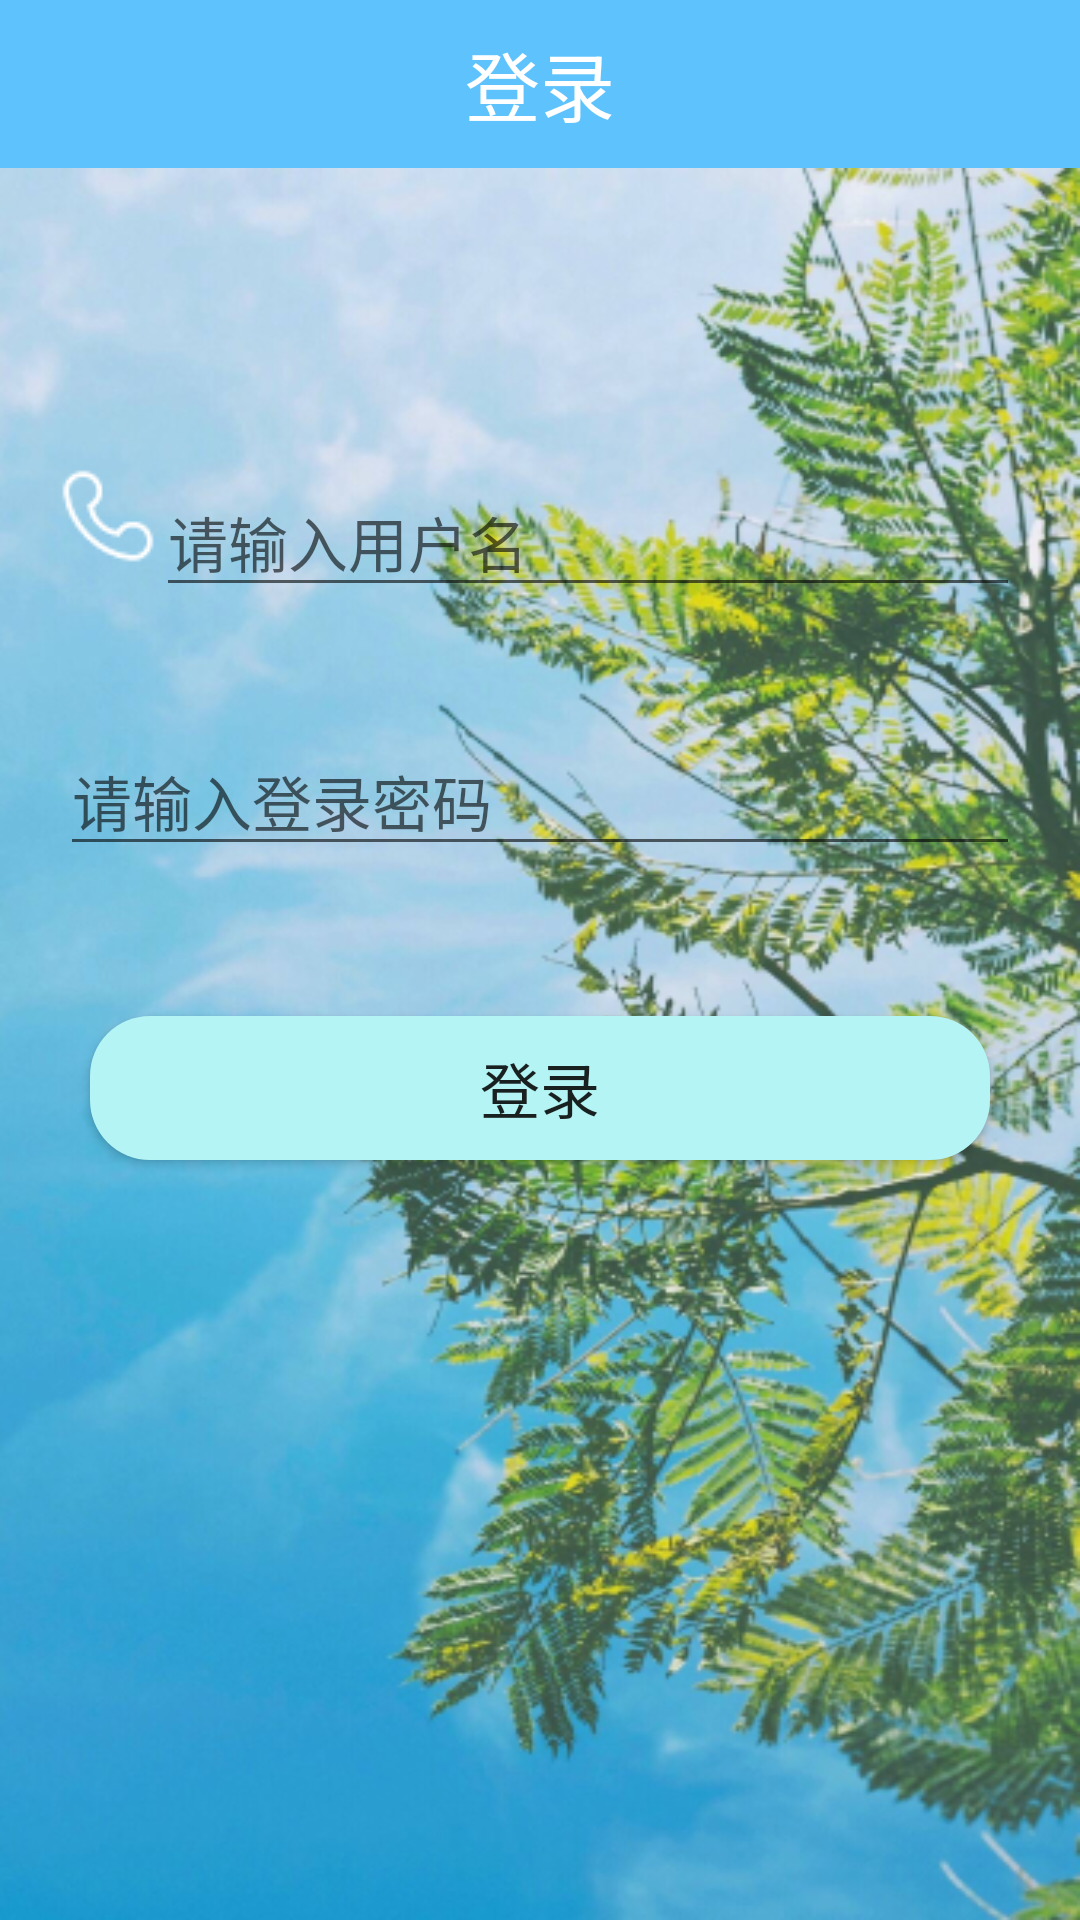

Screen size 1080w x 1920h. Icon name, then its center in pixels as point (x, y):
tel: point (107, 515)
